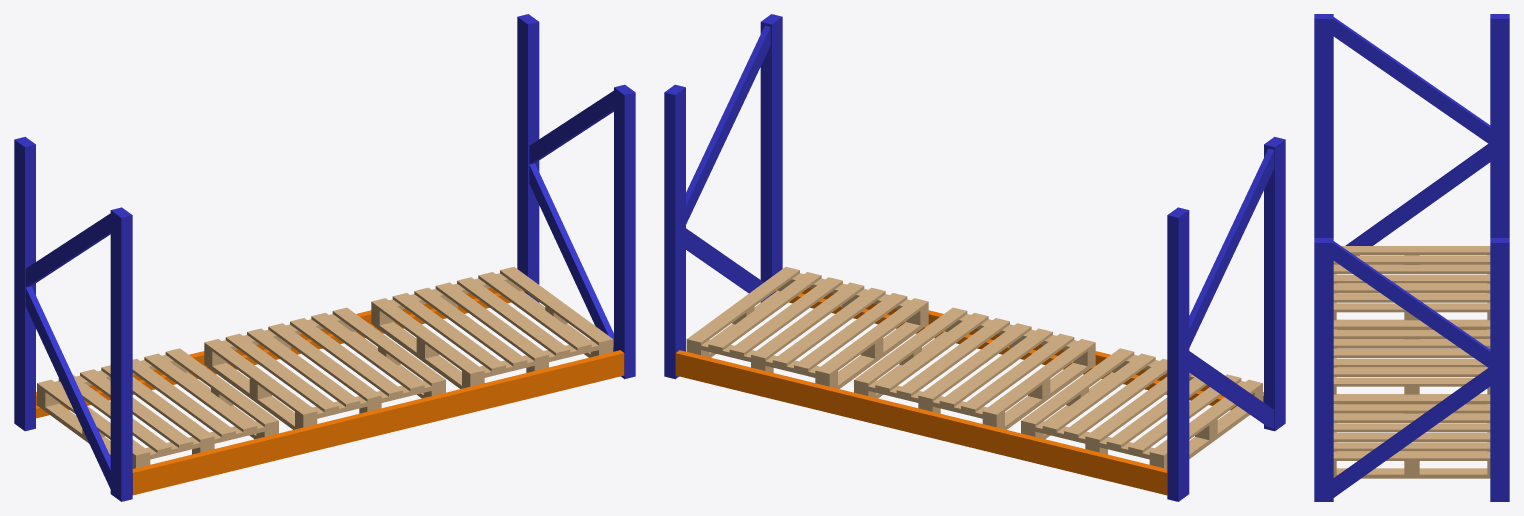
The model's file is Longarina_Separado_3pallets_pronto.glb.
3 views of the same model, side by side, from view 1: azimuth 30°, elevation 25°; view 2: azimuth 150°, elevation 25°; view 3: azimuth 270°, elevation 25° (orthographic). The views are drawn at different scales.
Parts seen in each view (by area): view 1: Barras_Laterais, Cube.006, Cube.002, Barra_Horizontal_frente, Cube.005, Cube, Cube.003, Cube.001, Cube.004, Cube.007; view 2: Barras_Laterais, Cube.006, Cube.002, Cube.007, Cube.005, Cube.001, Cube.004, Cube, Barra_Horizontal_frente, Cube.003; view 3: Barras_Laterais, Cube.006, Cube.002, Cube.005, Cube.003, Cube.001, Cube.004, Cube.
Boxes of the visible parts, <box> form: Barras_Laterais: <box>14,14,635,501</box>; Cube.006: <box>371,267,613,388</box>; Cube.002: <box>204,307,445,429</box>; Barra_Horizontal_frente: <box>132,350,624,495</box>; Cube.005: <box>37,348,278,468</box>; Cube: <box>25,286,110,488</box>; Cube.003: <box>529,163,613,351</box>; Cube.001: <box>25,213,110,287</box>; Cube.004: <box>529,90,613,164</box>; Cube.007: <box>36,288,510,418</box>; Barras_Laterais: <box>664,14,1285,501</box>; Cube.006: <box>686,267,928,388</box>; Cube.002: <box>854,307,1095,429</box>; Cube.007: <box>675,350,1167,495</box>; Cube.005: <box>1021,348,1262,468</box>; Cube.001: <box>1189,148,1274,347</box>; Cube.004: <box>686,25,770,224</box>; Cube: <box>1189,351,1274,428</box>; Barra_Horizontal_frente: <box>774,288,1263,410</box>; Cube.003: <box>686,228,770,302</box>; Barras_Laterais: <box>1314,14,1509,501</box>; Cube.006: <box>1333,394,1490,478</box>; Cube.002: <box>1333,320,1490,404</box>; Cube.005: <box>1333,246,1490,329</box>; Cube.003: <box>1333,368,1490,497</box>; Cube.001: <box>1333,17,1490,144</box>; Cube.004: <box>1333,241,1490,368</box>; Cube: <box>1345,144,1490,255</box>.
Size of the model in its own units: 3.6 by 1.9 by 1.3.
